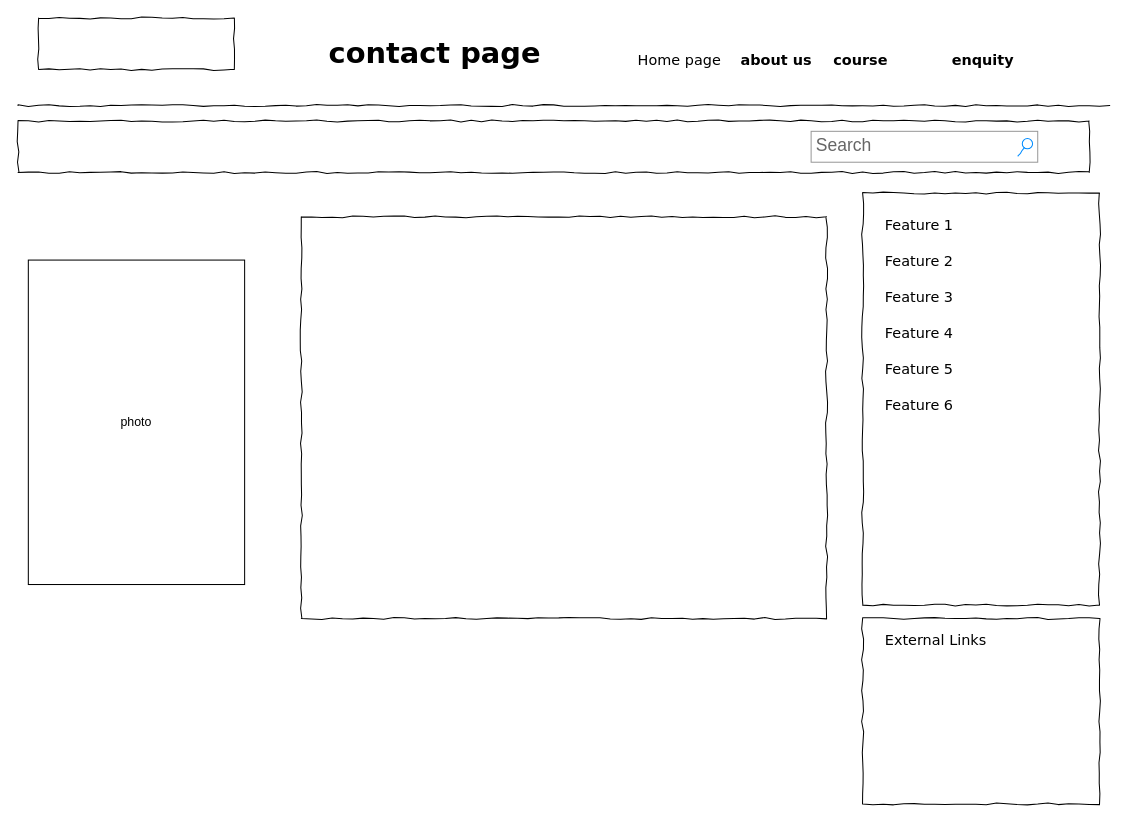
This 1128x822 diagram has some shape labels left out. Each missing label, with the box of its shape:
content: (300, 216, 827, 619)
LOGO: (38, 17, 234, 70)
